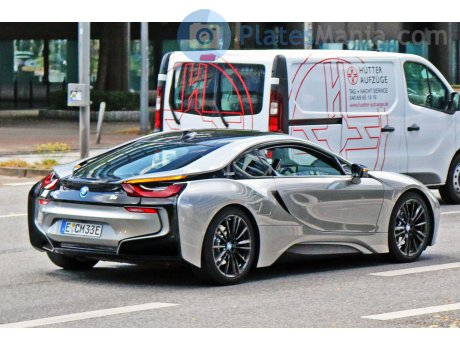License Plates: (65, 220, 95, 232)
